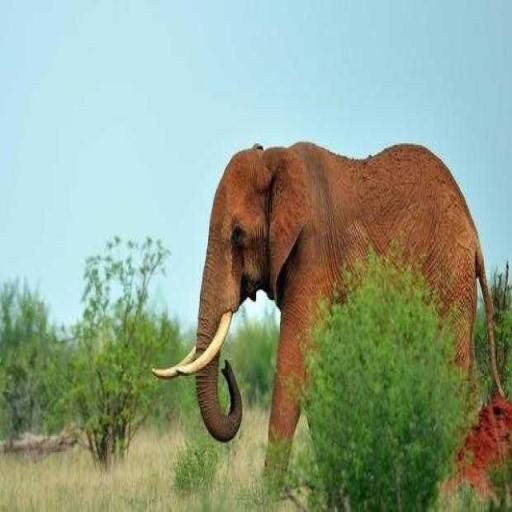Elephant: (151, 138, 509, 490)
